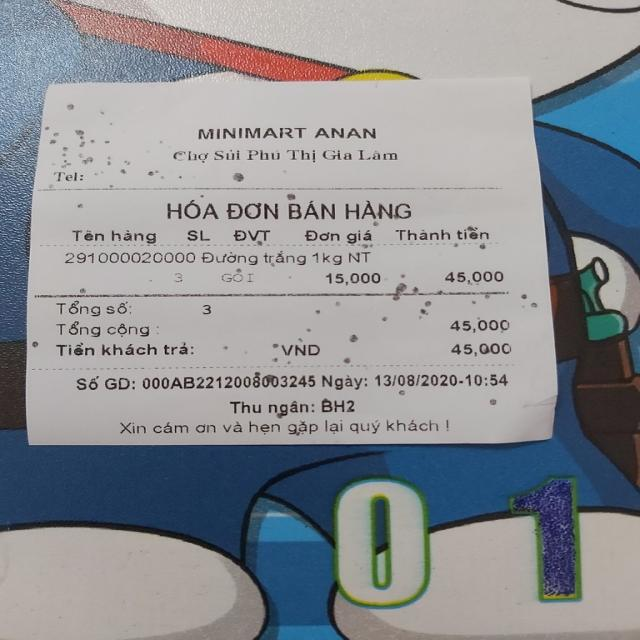Date: (376, 374, 458, 388)
Store_Name: (195, 126, 382, 141)
amount_number: (449, 318, 512, 334)
label_total: (54, 323, 154, 337)
